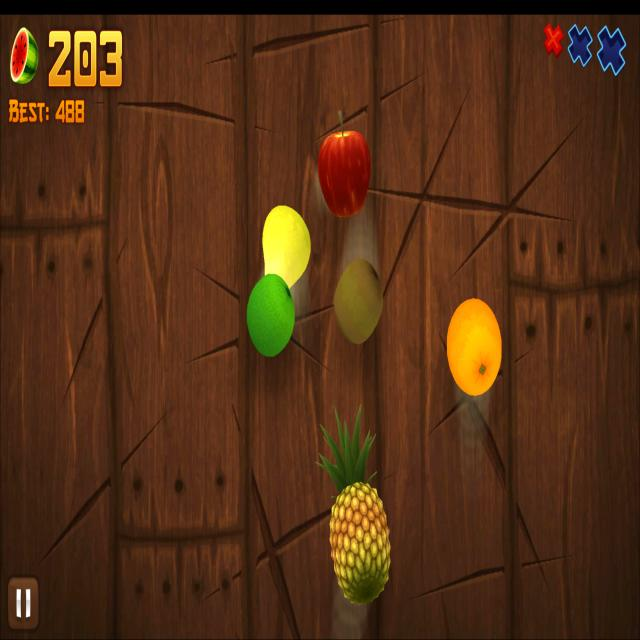fruit: (329, 482, 390, 604), (447, 298, 502, 398), (332, 257, 385, 346), (318, 131, 371, 216), (263, 204, 311, 290), (247, 272, 295, 356)
